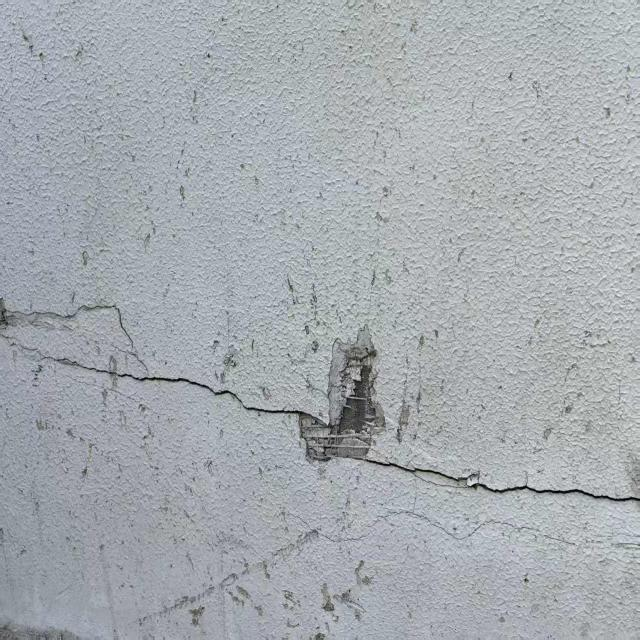crack: (1, 292, 297, 421), (359, 453, 639, 513), (284, 504, 579, 552)
spalling: (297, 322, 388, 467)
